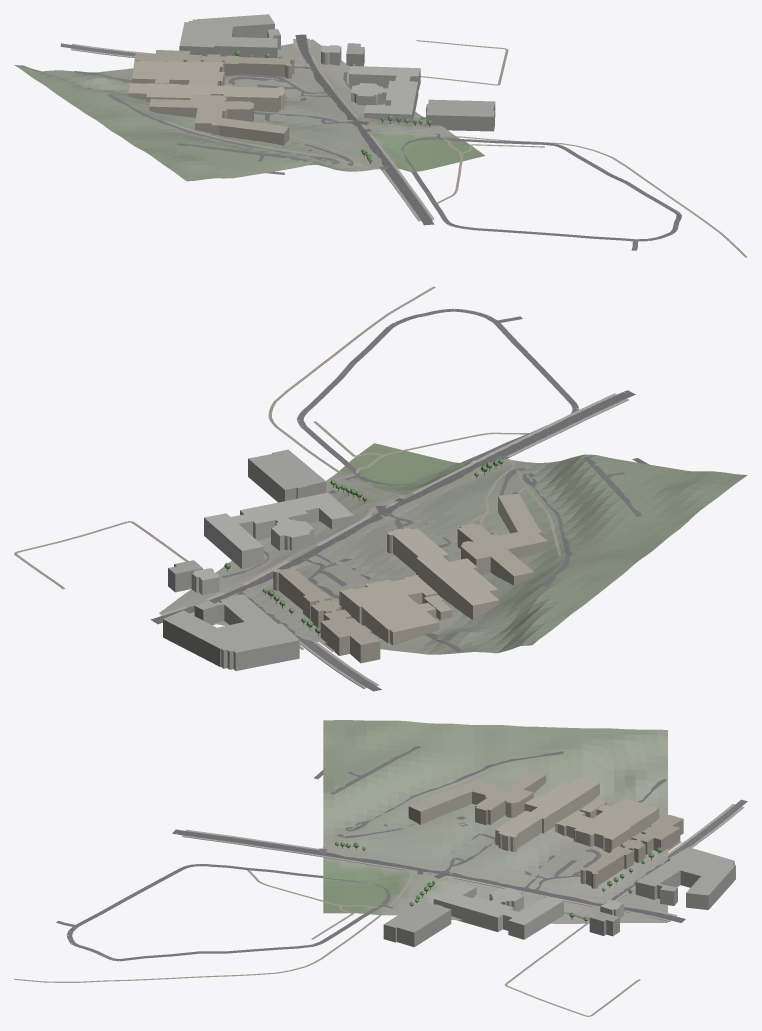
Rendered from tile_-9_-2.glb.
The picture shows the model from 3 angles, top to bottom: view 1: azimuth 30°, elevation 25°; view 2: azimuth 150°, elevation 25°; view 3: azimuth 270°, elevation 25°; orthographic projection. The views are drawn at different scales.
Parts seen in each view (by area): view 1: terrain, buildings, roads, paths, sidewalks; view 2: terrain, buildings, roads, paths, sidewalks, props; view 3: terrain, buildings, roads, paths, sidewalks, props.
Part boxes in pixels (bbox=[...]): terrain: bbox=[14, 39, 484, 181]; buildings: bbox=[128, 14, 495, 145]; roads: bbox=[60, 34, 681, 250]; paths: bbox=[166, 40, 747, 257]; sidewalks: bbox=[71, 38, 434, 221]; terrain: bbox=[159, 443, 747, 654]; buildings: bbox=[163, 449, 547, 670]; roads: bbox=[150, 308, 650, 691]; paths: bbox=[14, 286, 561, 651]; sidewalks: bbox=[160, 393, 628, 688]; props: bbox=[211, 459, 503, 636]; terrain: bbox=[323, 720, 667, 923]; buildings: bbox=[383, 770, 735, 947]; roads: bbox=[56, 746, 747, 961]; paths: bbox=[14, 770, 681, 1016]; sidewalks: bbox=[182, 804, 744, 921]; props: bbox=[335, 841, 661, 922].
Size of the model in its own units: 389 by 62.07 by 545.
